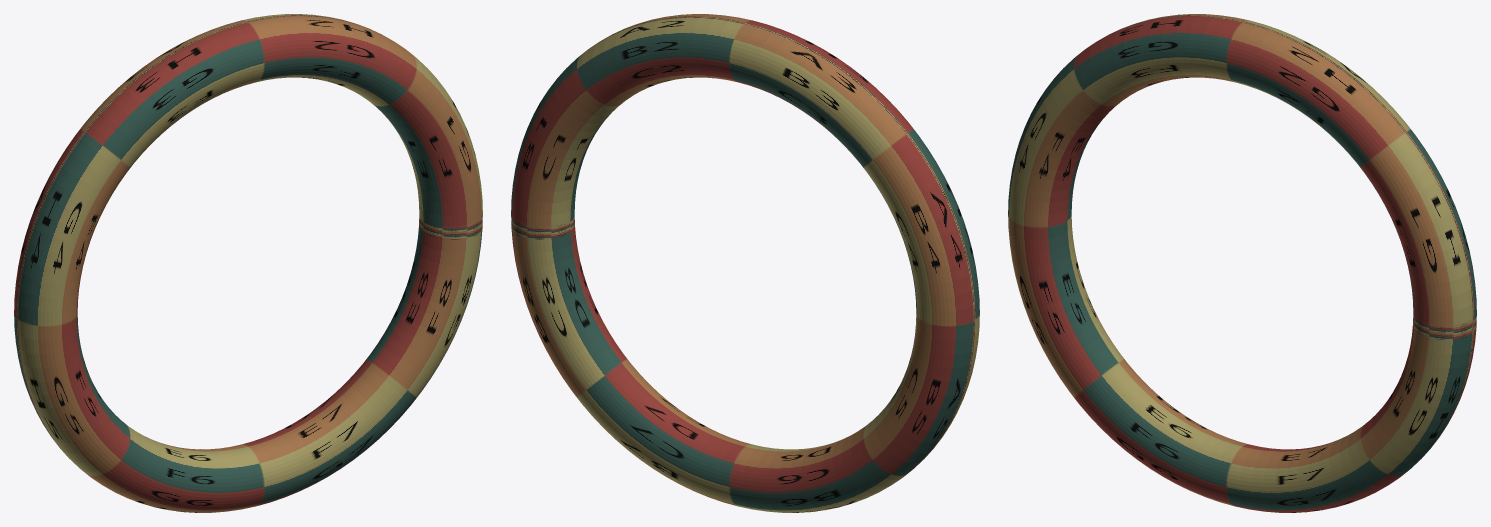
Rendered from texture_torus_R8_r2.glb.
3 views of the same model, side by side, from view 1: azimuth 30°, elevation 25°; view 2: azimuth 150°, elevation 25°; view 3: azimuth 330°, elevation 25° (orthographic).
Visible parts, largest first — view 1: world; view 2: world; view 3: world.
Part boxes in pixels (left/top/right/bottom): world: left=14, top=14, right=482, bottom=512; world: left=511, top=14, right=979, bottom=512; world: left=1008, top=14, right=1476, bottom=512.
Size of the model in its own units: 31.56 by 31.56 by 3.77.
Materials: 1 (1 with a texture image).
